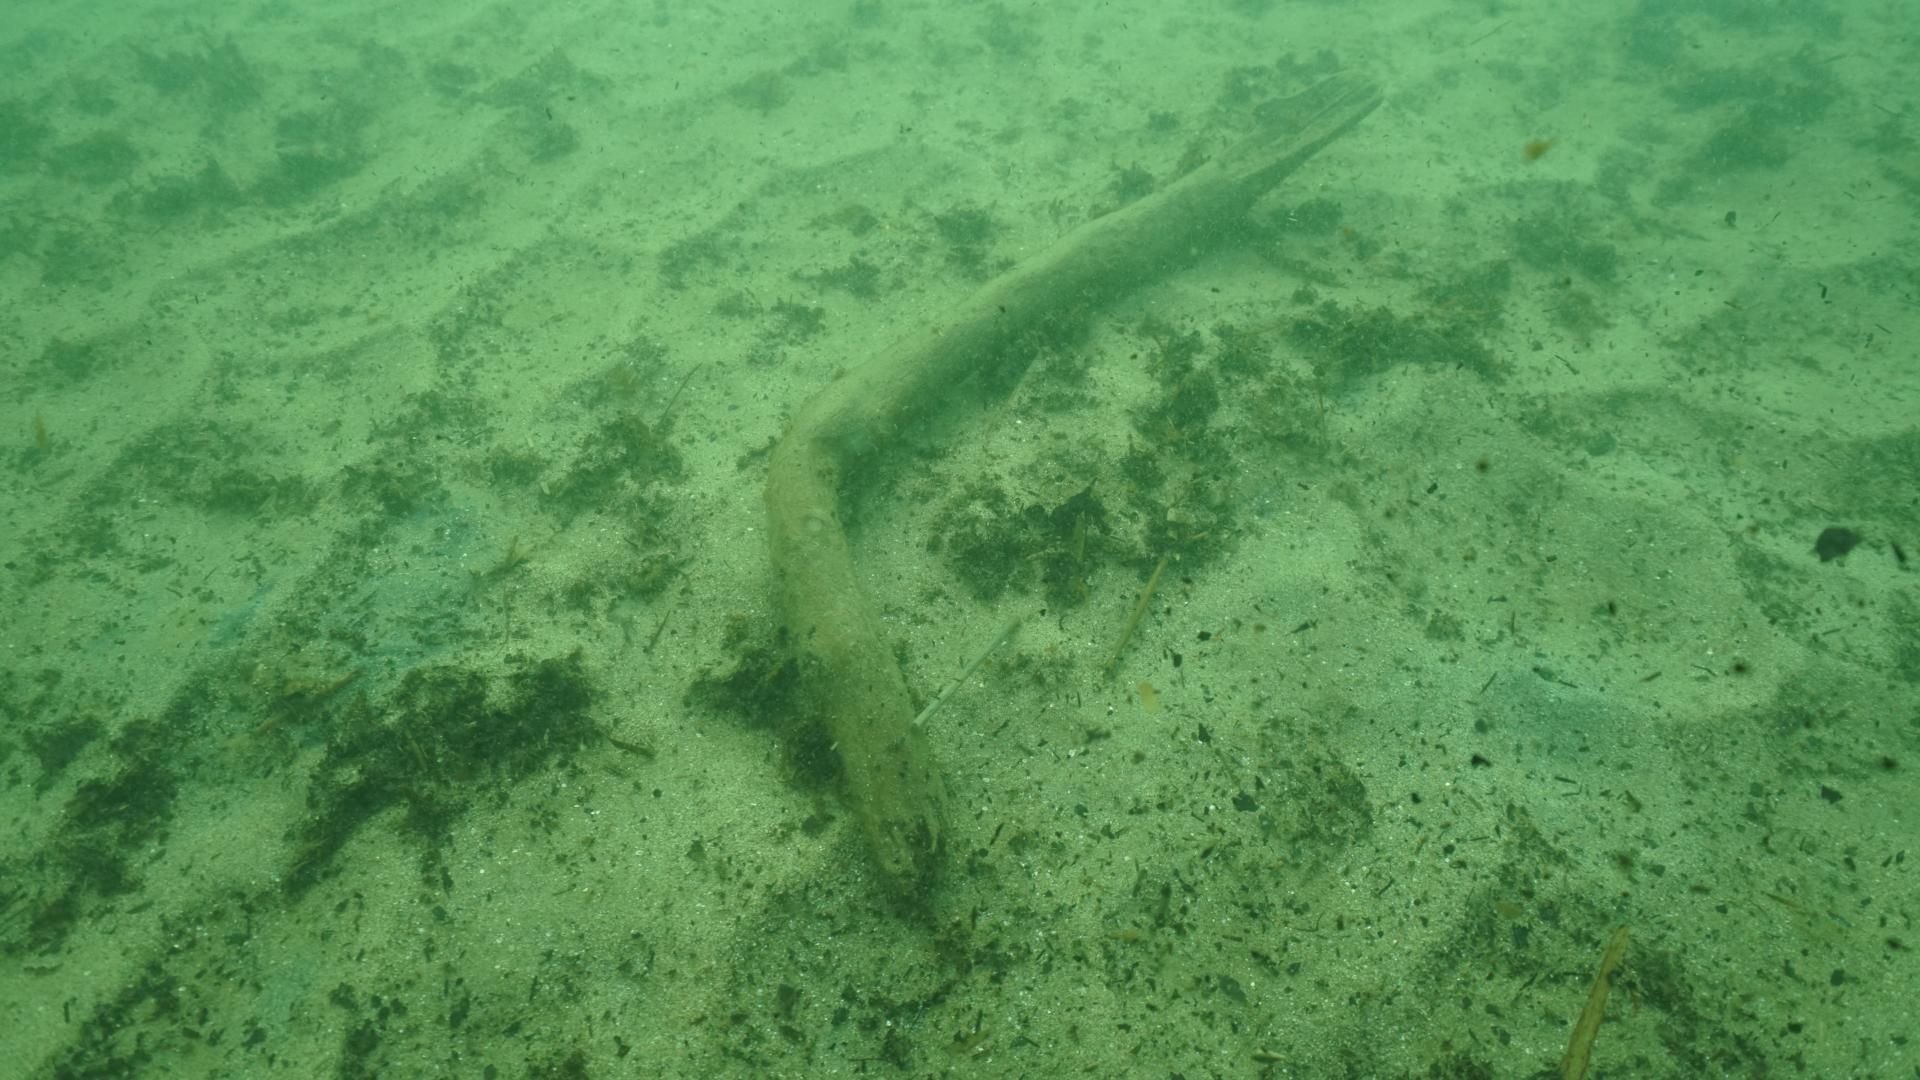wood: (760, 65, 1390, 910)
